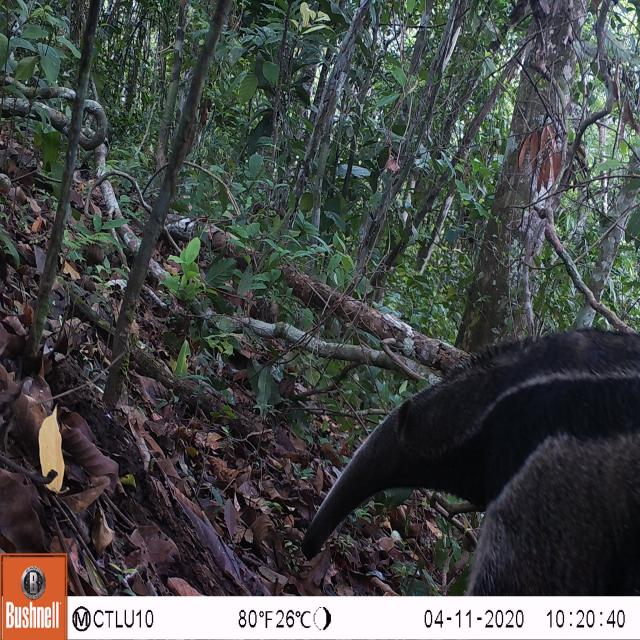Giant Anteater: (300, 326, 640, 593)
